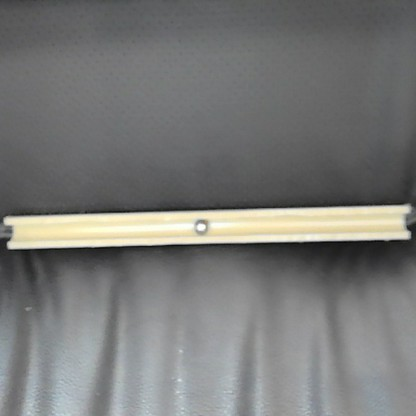ironball: (190, 214, 208, 235)
